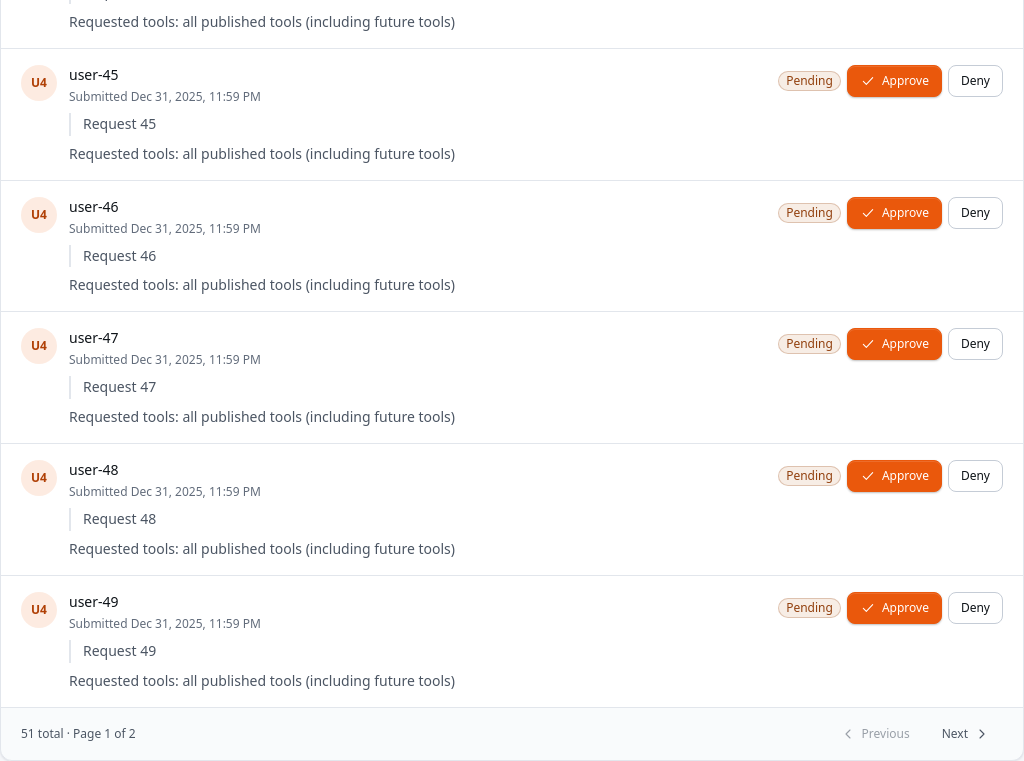
Scenario: provider access pagination › steps back after Approve removes the only pending request on page two
This screenshot has width=1024, height=761.
(page scrolled)
Click the button "Next" at (966, 734), box [929,718,1003,750]
(page scrolled)
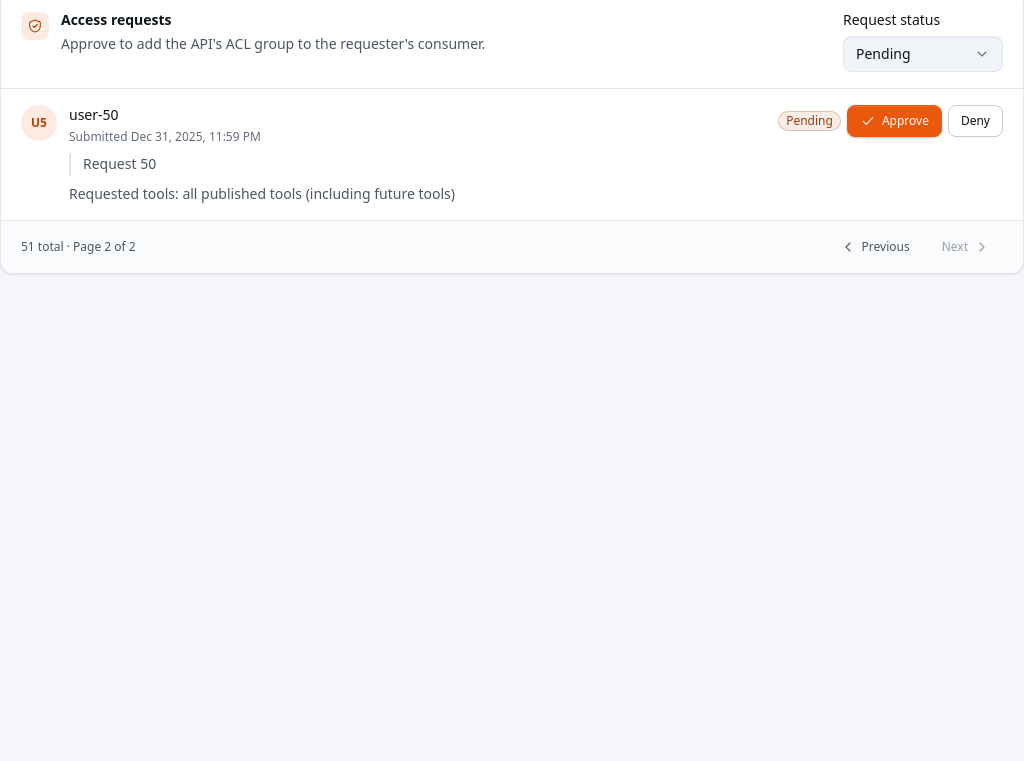
Now the button "Previous" is enabled, box [826,231,923,263]
Now the list item "user-50" is shown, box [69,105,119,124]
Click the button "Approve" at (894, 121), box [847,105,942,137]
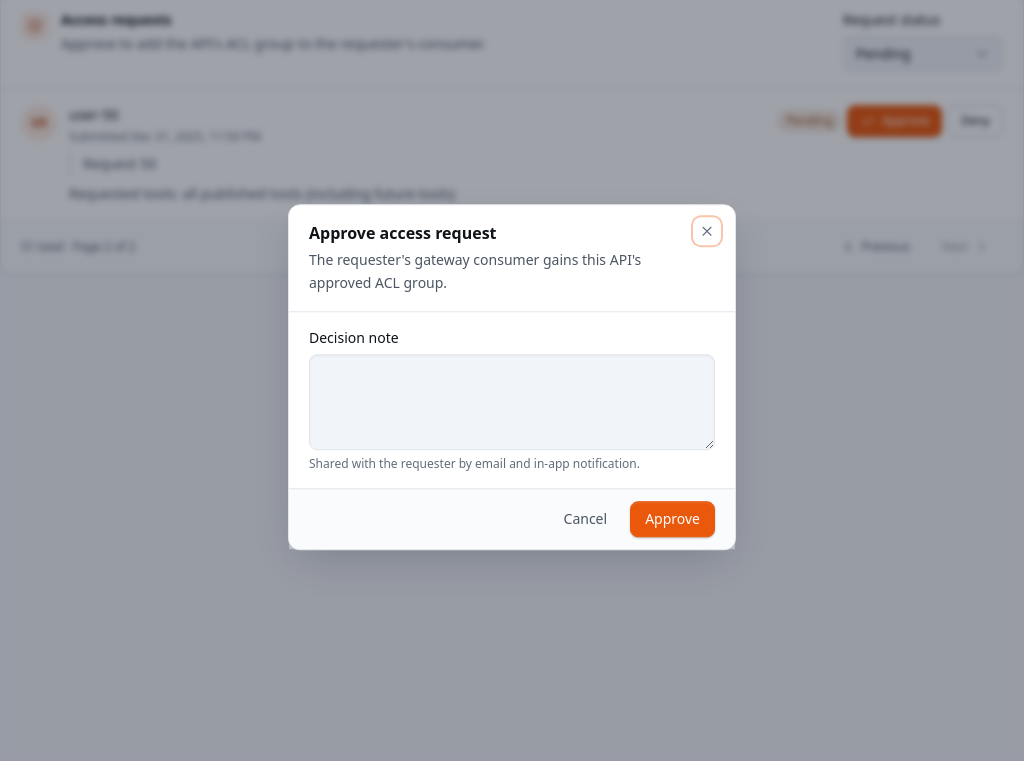
Click the button "Approve" at (673, 519), box [630,501,715,537]
(page scrolled)
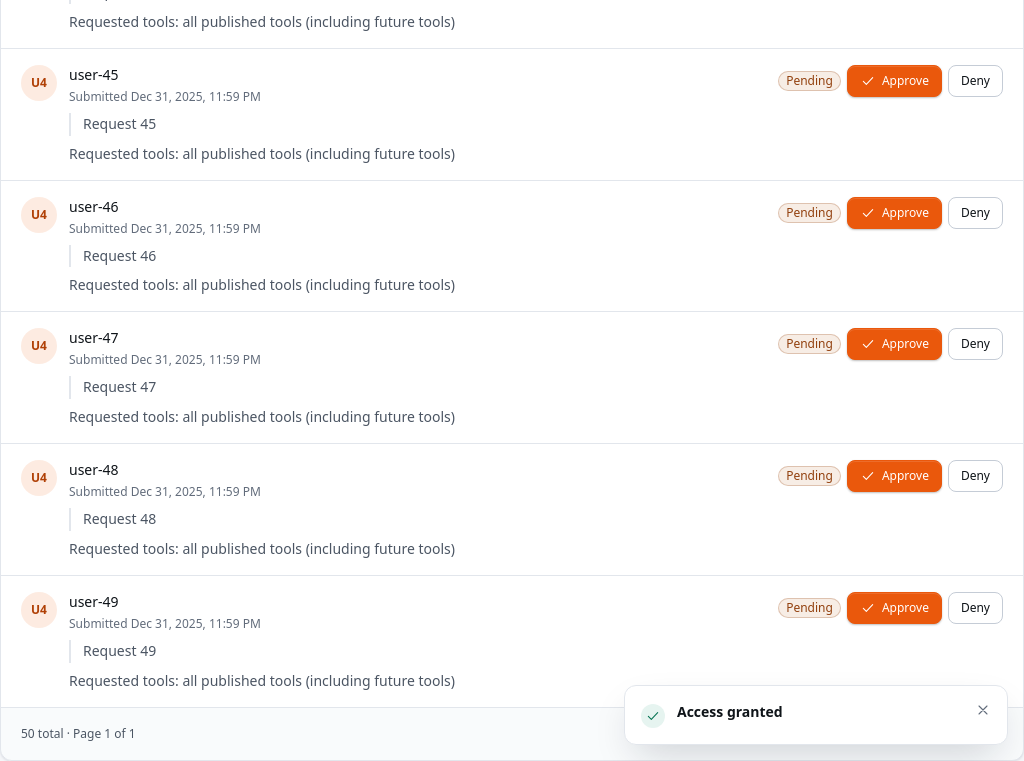
Now the button "Next" is disabled, box [929,718,1003,750]
Now the dialog is gone
